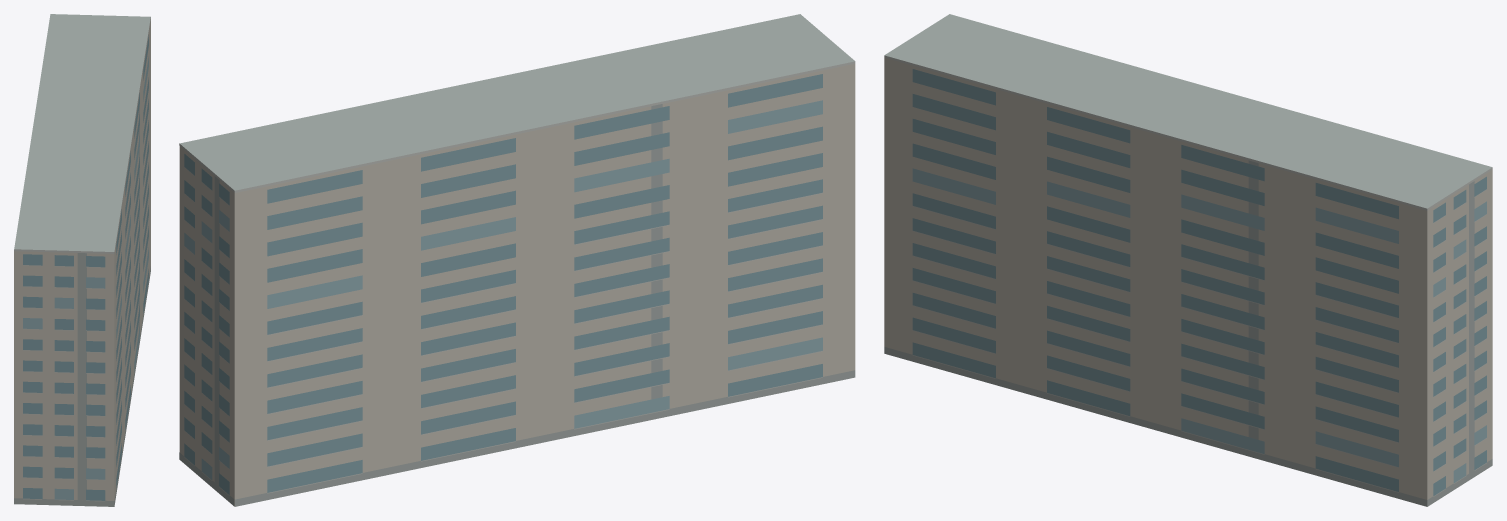
The model's file is residential-df30d60c-45ff-43f6-bffe-c4b856a51e3c.glb.
The picture shows the model from 3 angles, left to right: view 1: azimuth 30°, elevation 25°; view 2: azimuth 150°, elevation 25°; view 3: azimuth 270°, elevation 25°; orthographic projection. The views are drawn at different scales.
Parts seen in each view (by area): view 1: residential-df30d60c-45ff-43f6-bffe-c4b856a51e3c.tmp; view 2: residential-df30d60c-45ff-43f6-bffe-c4b856a51e3c.tmp; view 3: residential-df30d60c-45ff-43f6-bffe-c4b856a51e3c.tmp.
Part boxes in pixels (box(x1,y1,x2,y2)): residential-df30d60c-45ff-43f6-bffe-c4b856a51e3c.tmp: box(14, 14, 150, 506); residential-df30d60c-45ff-43f6-bffe-c4b856a51e3c.tmp: box(179, 14, 855, 506); residential-df30d60c-45ff-43f6-bffe-c4b856a51e3c.tmp: box(884, 14, 1492, 506).
Size of the model in its own units: 46.18 by 33 by 61.01.
